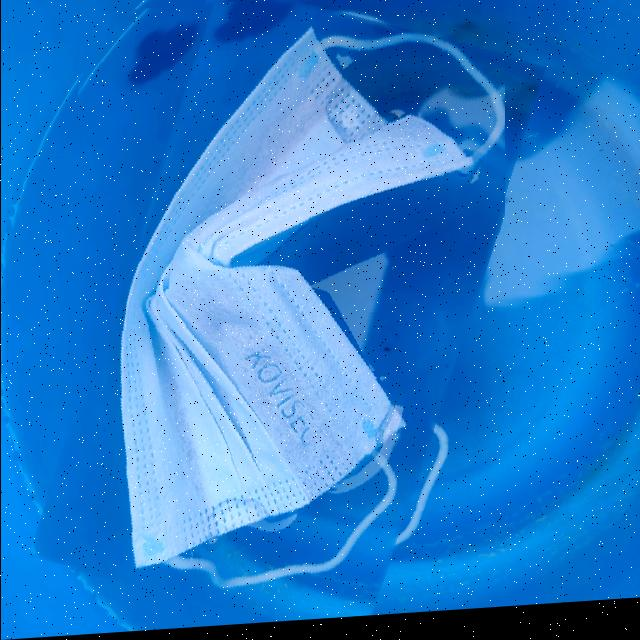mask: (69, 0, 504, 636)
